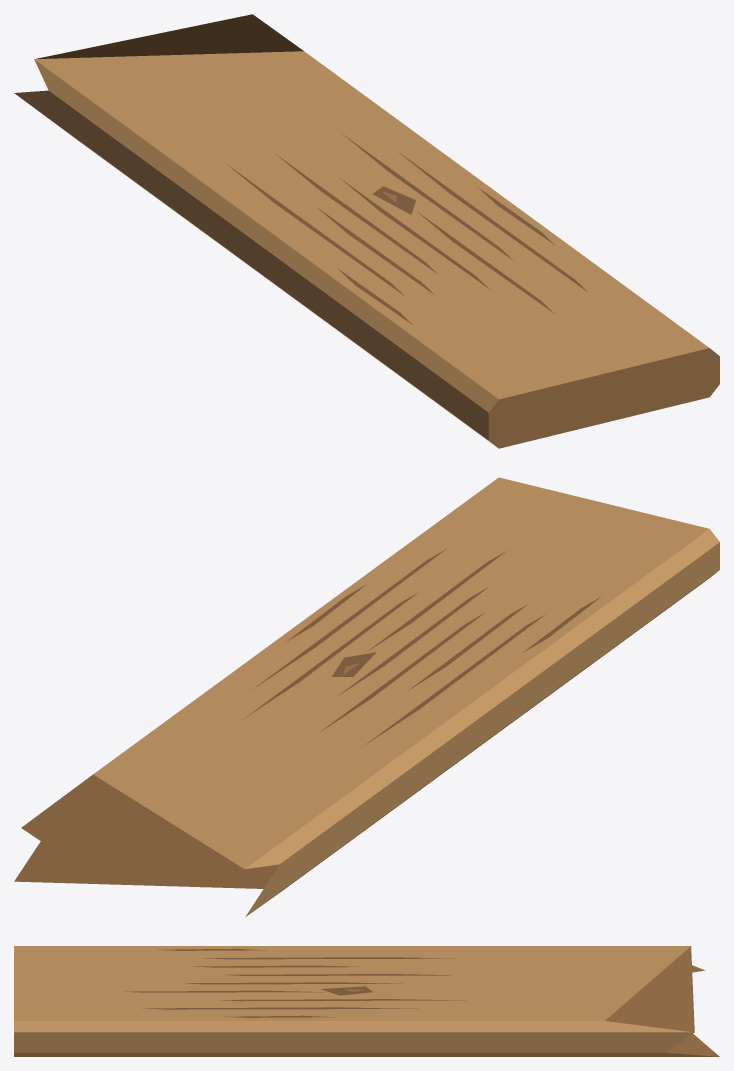
File: Plank_Broken.glb
3 renders of one model, top to bottom at view 1: azimuth 30°, elevation 25°; view 2: azimuth 150°, elevation 25°; view 3: azimuth 270°, elevation 25°, orthographic. The views are drawn at different scales.
Visible parts, largest first — view 1: Plank_Broken; view 2: Plank_Broken; view 3: Plank_Broken.
Boxes of the visible parts, x1,y1,x2,y2 form: Plank_Broken: [14, 14, 719, 448]; Plank_Broken: [14, 477, 719, 916]; Plank_Broken: [14, 946, 719, 1056].
Bounding box in the file's own units: 0.27 × 0.056 × 0.98.
